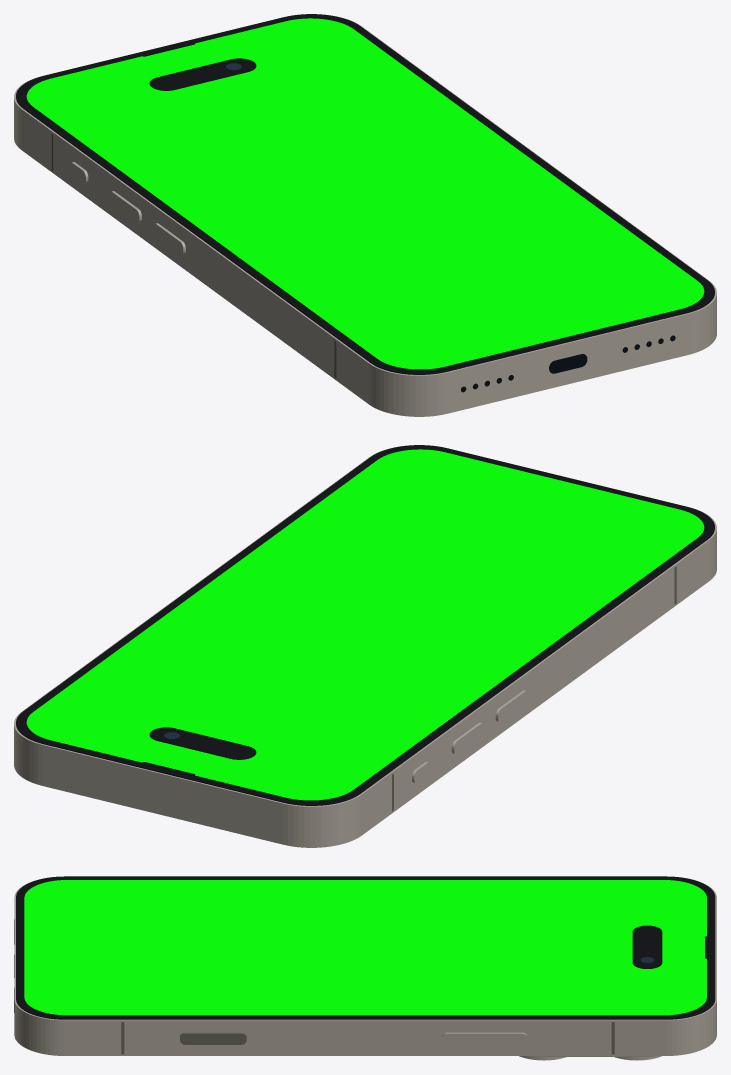
The model's file is phone.glb.
The picture shows the model from 3 angles, top to bottom: view 1: azimuth 30°, elevation 25°; view 2: azimuth 150°, elevation 25°; view 3: azimuth 270°, elevation 25°; orthographic projection. The views are drawn at different scales.
Parts seen in each view (by area): view 1: Screen, Titanium edge band, Front ceramic black glass, Dynamic Island; view 2: Screen, Titanium edge band, Front ceramic black glass, Dynamic Island; view 3: Screen, Titanium edge band, Front ceramic black glass, Dynamic Island, Power button, Camera control.
Boxes of the visible parts, <box> form: Screen: <box>26,18,704,369</box>; Titanium edge band: <box>14,18,716,416</box>; Front ceramic black glass: <box>16,14,714,374</box>; Dynamic Island: <box>149,58,256,90</box>; Screen: <box>26,449,704,800</box>; Titanium edge band: <box>14,449,716,847</box>; Front ceramic black glass: <box>16,445,714,805</box>; Dynamic Island: <box>149,727,256,759</box>; Screen: <box>24,880,706,1015</box>; Titanium edge band: <box>14,880,716,1055</box>; Front ceramic black glass: <box>16,876,715,1019</box>; Dynamic Island: <box>632,925,662,968</box>; Power button: <box>442,1032,527,1044</box>; Camera control: <box>180,1032,246,1044</box>.
Bounding box in the file's own units: 0.0726 × 0.0124 × 0.1477.
